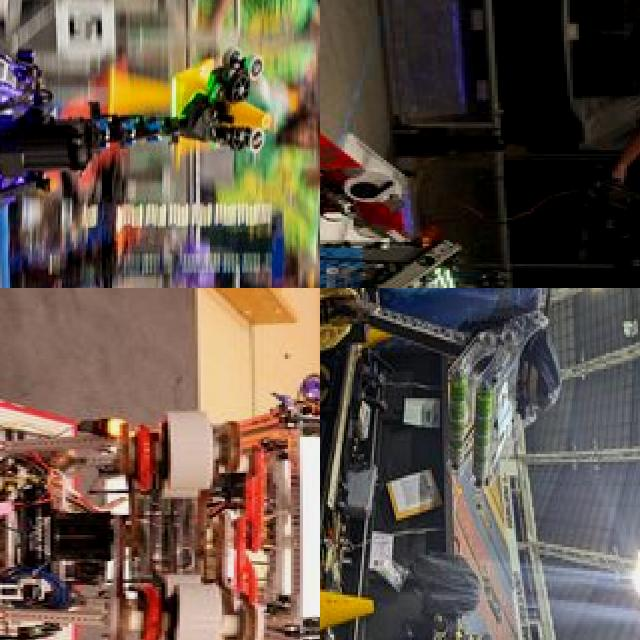FRC-Robots: (0, 328, 320, 640), (0, 0, 279, 288), (320, 288, 571, 551), (320, 44, 464, 219)
